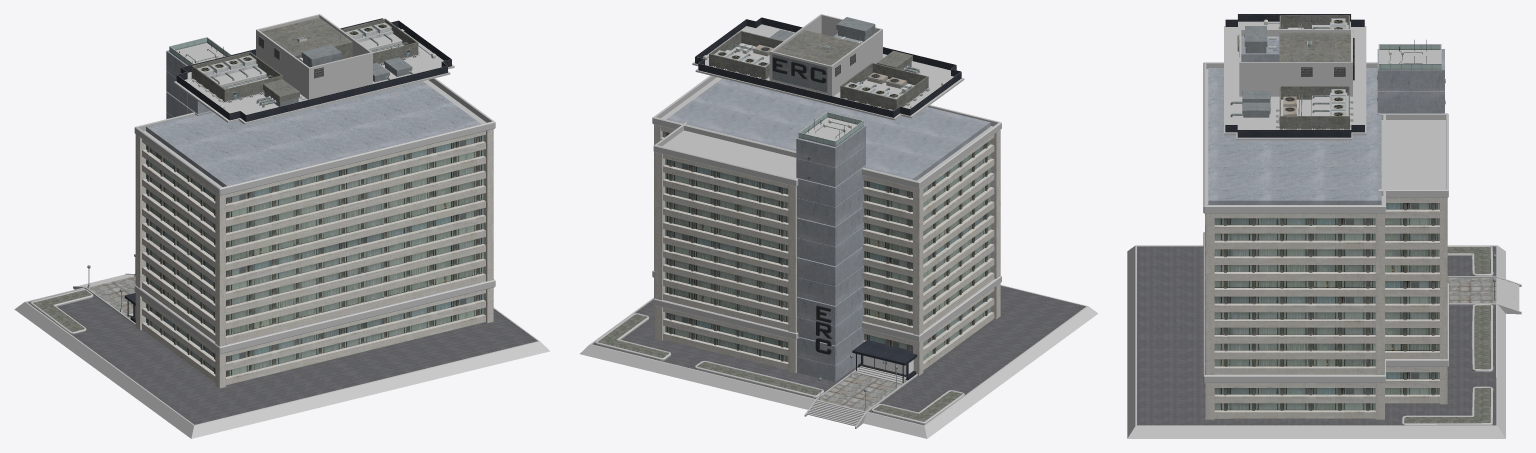
Rendered from u2SWBuild6.gltf.
The picture shows the model from 3 angles, left to right: view 1: azimuth 30°, elevation 25°; view 2: azimuth 150°, elevation 25°; view 3: azimuth 270°, elevation 25°; orthographic projection. The views are drawn at different scales.
Visible parts, largest first — view 1: u2SWBuild6; view 2: u2SWBuild6; view 3: u2SWBuild6.
Part boxes in pixels (x1,y1,x2,y2): u2SWBuild6: [14, 14, 549, 438]; u2SWBuild6: [580, 14, 1098, 438]; u2SWBuild6: [1127, 14, 1521, 438].
Size of the model in its own units: 27.91 by 22.09 by 24.81.
